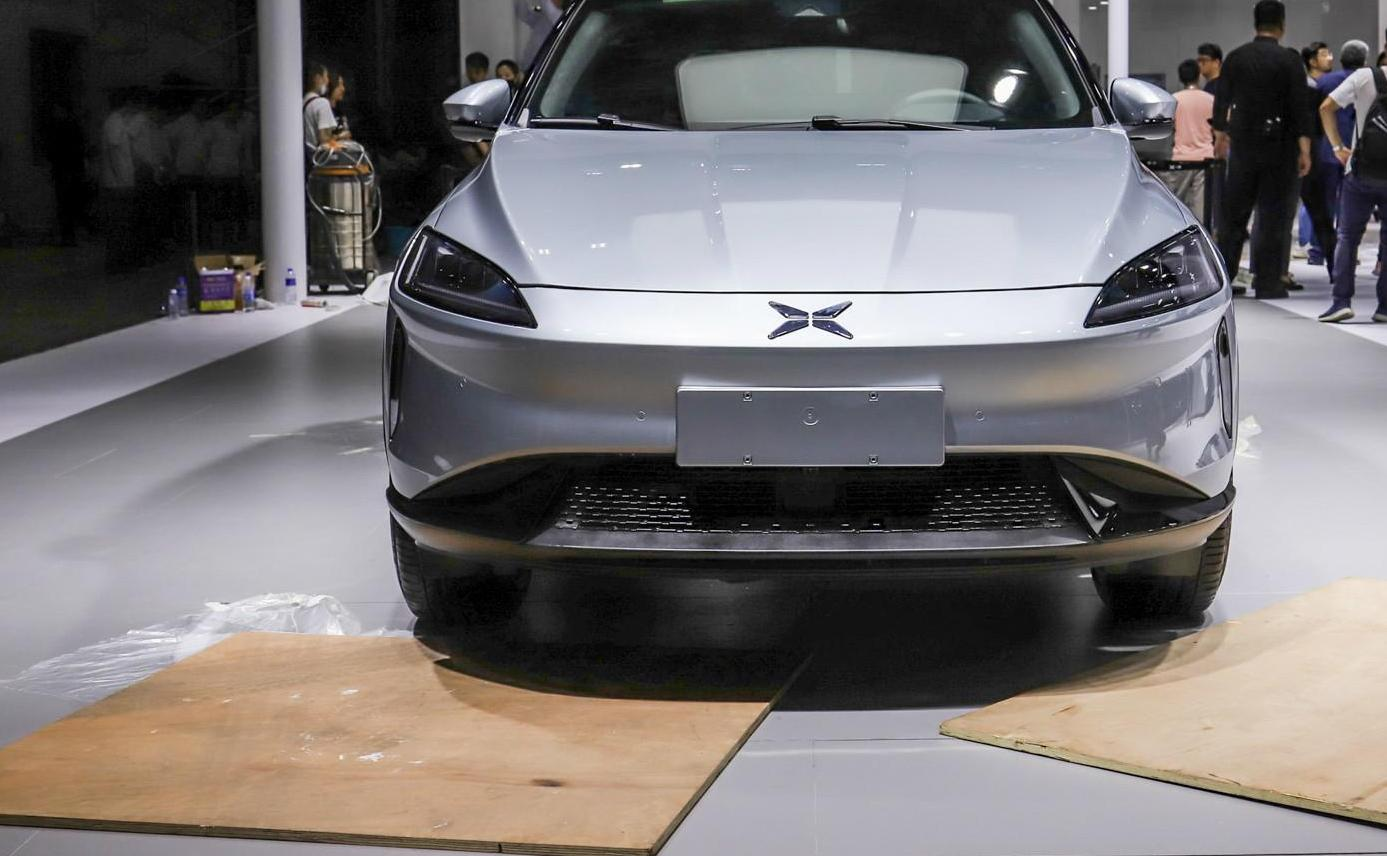XPeng Motors: (767, 300, 855, 340)
